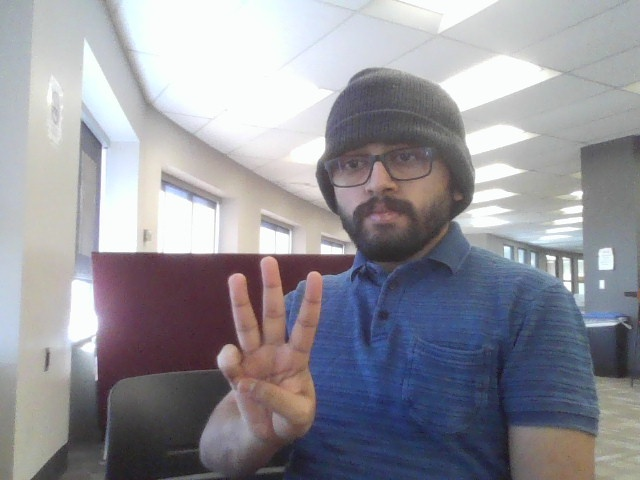start: (201, 250, 347, 462)
